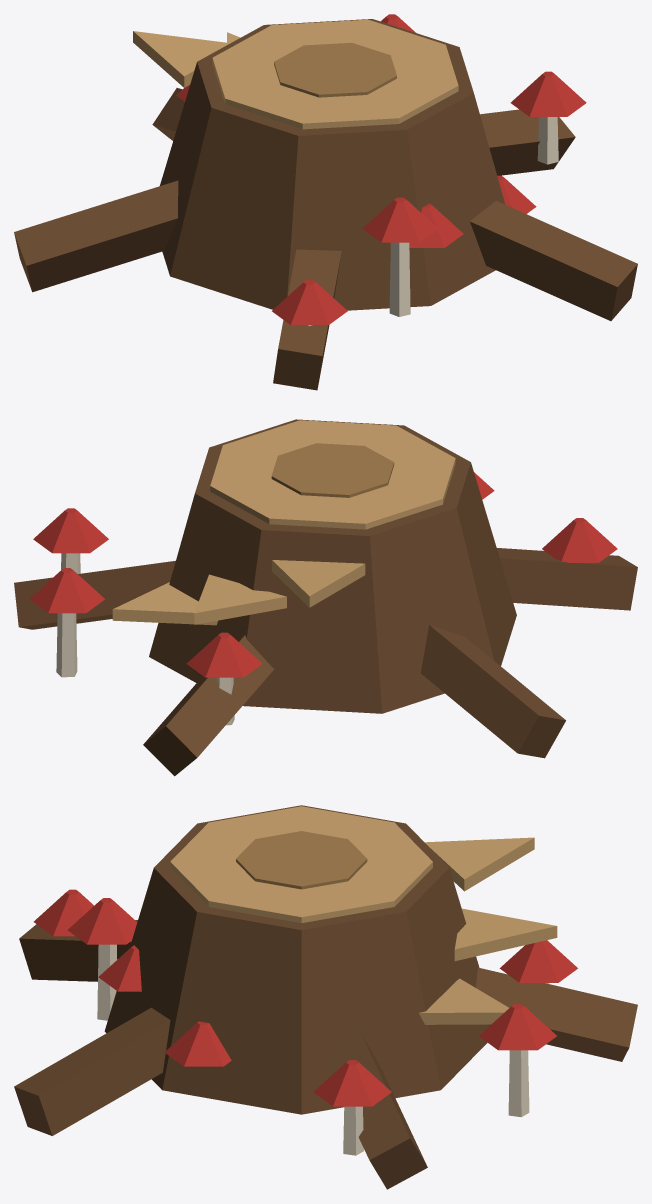
Rendered from stump.glb.
3 views of the same model, one above another, from view 1: azimuth 30°, elevation 25°; view 2: azimuth 150°, elevation 25°; view 3: azimuth 270°, elevation 25° (orthographic). The views are drawn at different scales.
Visible parts, largest first — view 1: nature_stump_mushrooms; view 2: nature_stump_mushrooms; view 3: nature_stump_mushrooms.
Boxes of the visible parts, bbox=[...] form: nature_stump_mushrooms: bbox=[14, 14, 637, 390]; nature_stump_mushrooms: bbox=[14, 419, 637, 776]; nature_stump_mushrooms: bbox=[14, 805, 637, 1189].
Bounding box in the file's own units: 1.97 × 0.677 × 1.9.
